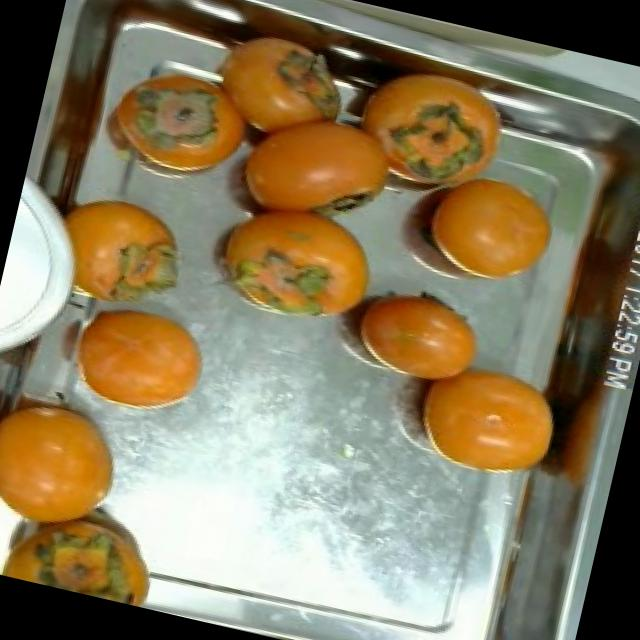Fruit: (192, 178, 402, 336), (80, 36, 274, 206), (41, 278, 227, 440), (27, 168, 212, 326), (394, 339, 580, 496), (398, 150, 578, 304), (0, 366, 148, 551), (338, 268, 500, 396), (13, 490, 176, 611)
